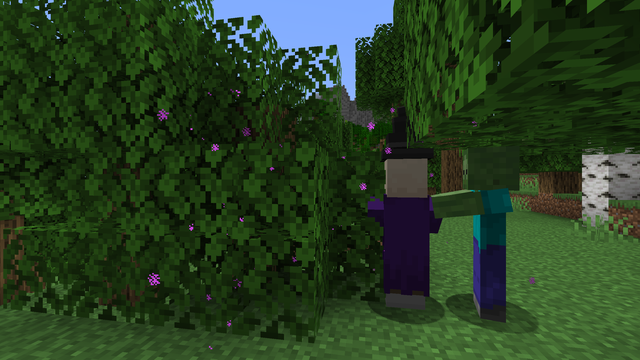sorcieres: (379, 151, 434, 317)
zombies: (453, 150, 529, 326)
